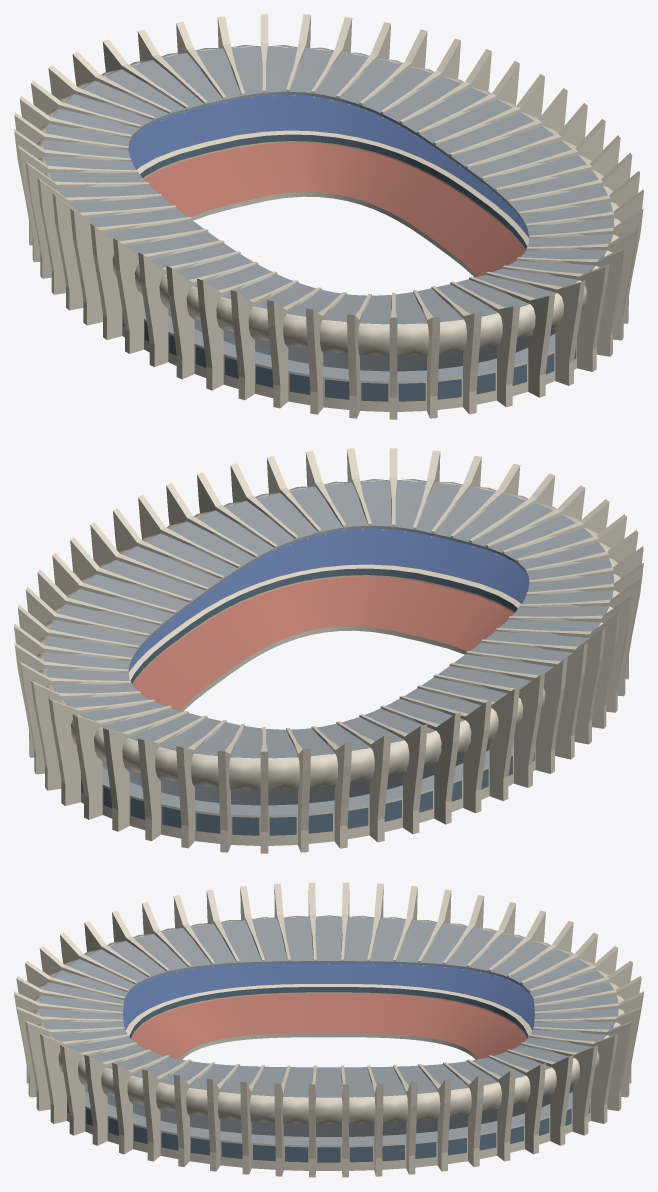
The model's file is paris-parc-des-princes.glb.
3 views of the same model, one above another, from view 1: azimuth 30°, elevation 25°; view 2: azimuth 150°, elevation 25°; view 3: azimuth 270°, elevation 25° (orthographic). The views are drawn at different scales.
Parts seen in each view (by area): view 1: Parc des Princes; view 2: Parc des Princes; view 3: Parc des Princes.
Boxes of the visible parts, <box> form: Parc des Princes: <box>14,14,643,419</box>; Parc des Princes: <box>14,448,643,853</box>; Parc des Princes: <box>14,882,643,1177</box>.
Bounding box in the file's own units: 190 × 43.19 × 251.
